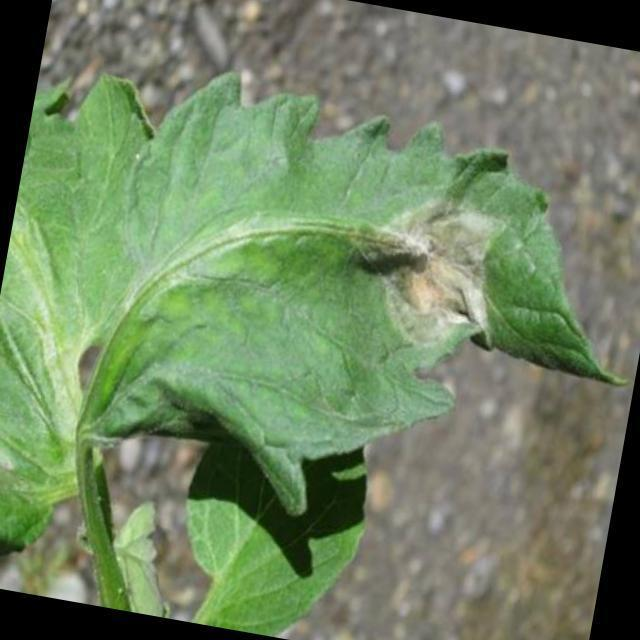Healthy Leaf: (354, 190, 523, 353)
